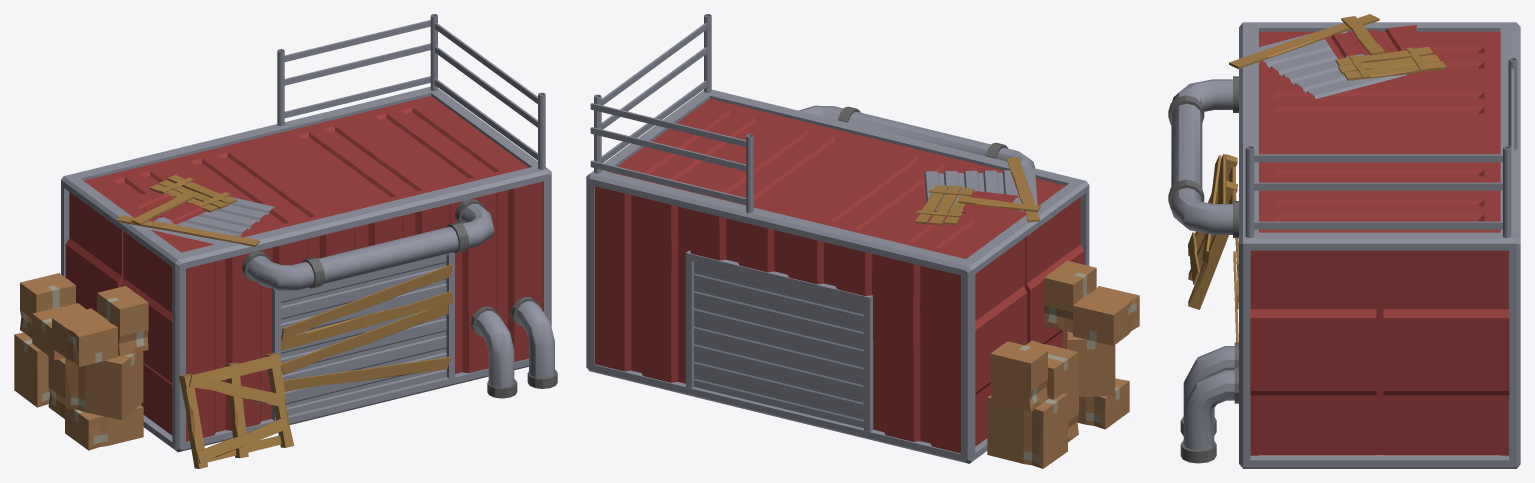
Rendered from struct1.glb.
3 renders of one model, left to right at view 1: azimuth 30°, elevation 25°; view 2: azimuth 150°, elevation 25°; view 3: azimuth 270°, elevation 25°, orthographic. The views are drawn at different scales.
Visible parts, largest first — view 1: Structure_1; view 2: Structure_1; view 3: Structure_1.
Boxes of the visible parts, x1=… form: Structure_1: x1=14, y1=14, x2=557, y2=468; Structure_1: x1=586, y1=14, x2=1139, y2=468; Structure_1: x1=1168, y1=14, x2=1520, y2=468.
Size of the model in its own units: 7.98 by 4.56 by 4.52.
